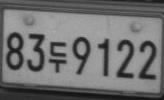1: (95, 38, 114, 76)
2: (116, 38, 135, 79), (138, 40, 156, 79)
3: (26, 33, 46, 71)
8: (5, 31, 24, 70)
9: (72, 36, 91, 74)
두: (49, 41, 67, 73)
